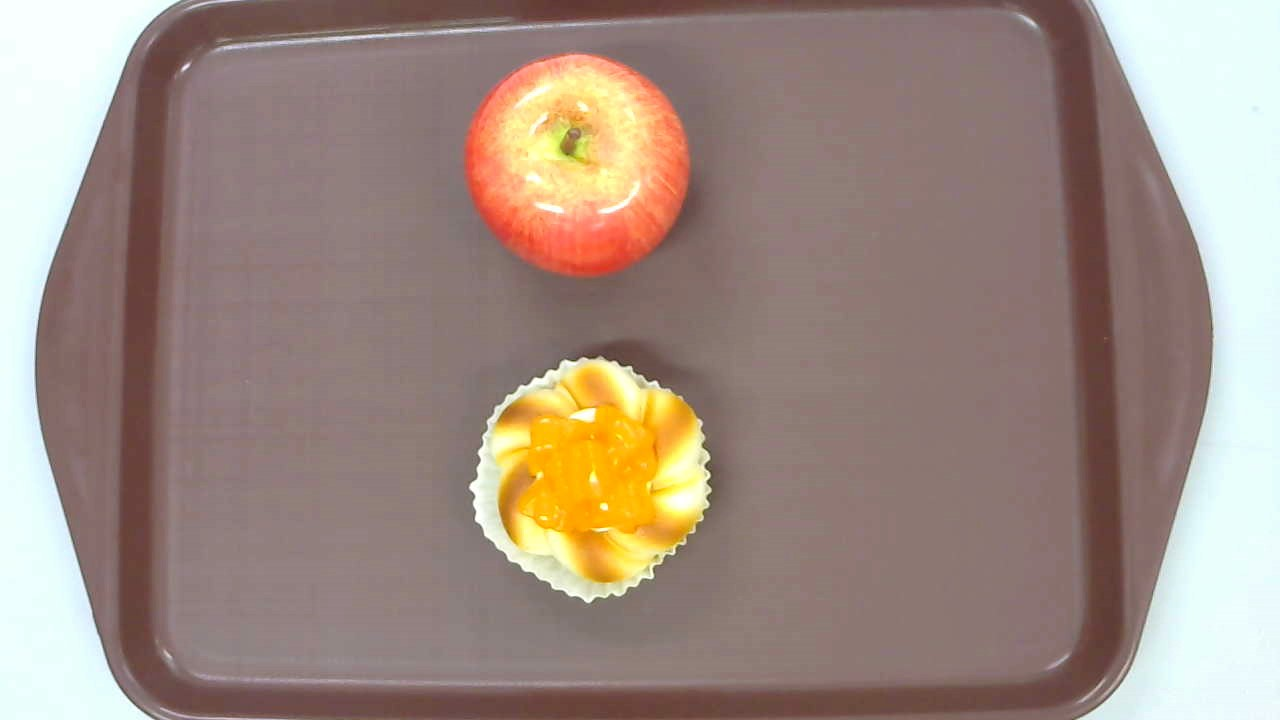mango tart: (468, 355, 712, 602)
red apple: (463, 51, 689, 280)
